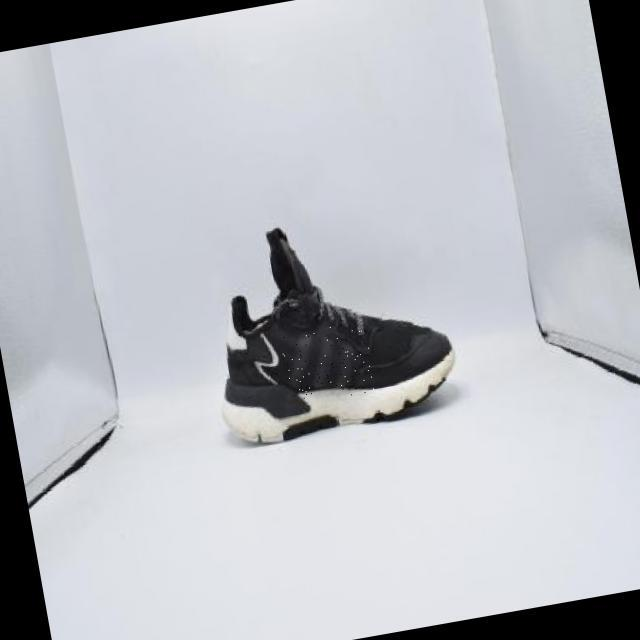Adidas: (279, 319, 376, 406)
